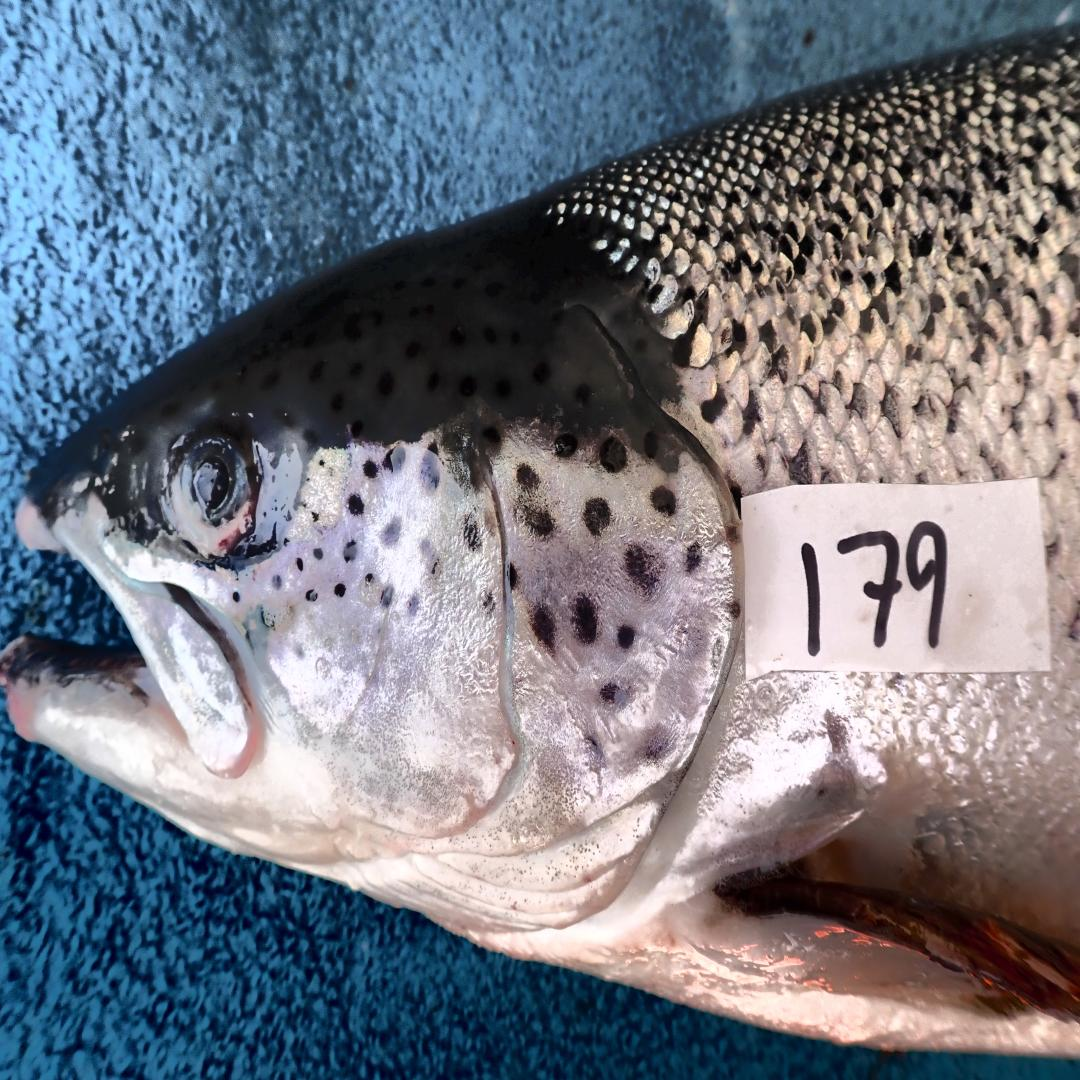spot: (515, 464, 555, 537), (624, 546, 662, 596), (572, 596, 597, 644), (582, 498, 612, 534), (599, 436, 626, 472), (532, 608, 555, 650), (420, 443, 441, 489), (599, 681, 629, 709), (639, 733, 667, 763), (650, 487, 677, 518), (419, 541, 440, 576), (382, 446, 407, 471), (553, 433, 578, 458), (464, 515, 481, 551), (584, 735, 603, 766), (382, 518, 401, 546), (687, 543, 703, 572), (618, 624, 635, 650), (643, 431, 659, 458), (507, 562, 520, 592), (482, 426, 501, 444), (348, 495, 365, 515), (481, 594, 495, 615), (344, 541, 357, 562), (363, 461, 378, 478), (381, 586, 392, 607), (728, 600, 740, 618), (335, 582, 348, 598), (408, 597, 418, 616), (727, 526, 738, 543), (364, 572, 374, 588), (272, 577, 281, 592), (305, 591, 317, 602), (313, 548, 324, 560), (295, 558, 302, 572), (232, 591, 240, 602)
